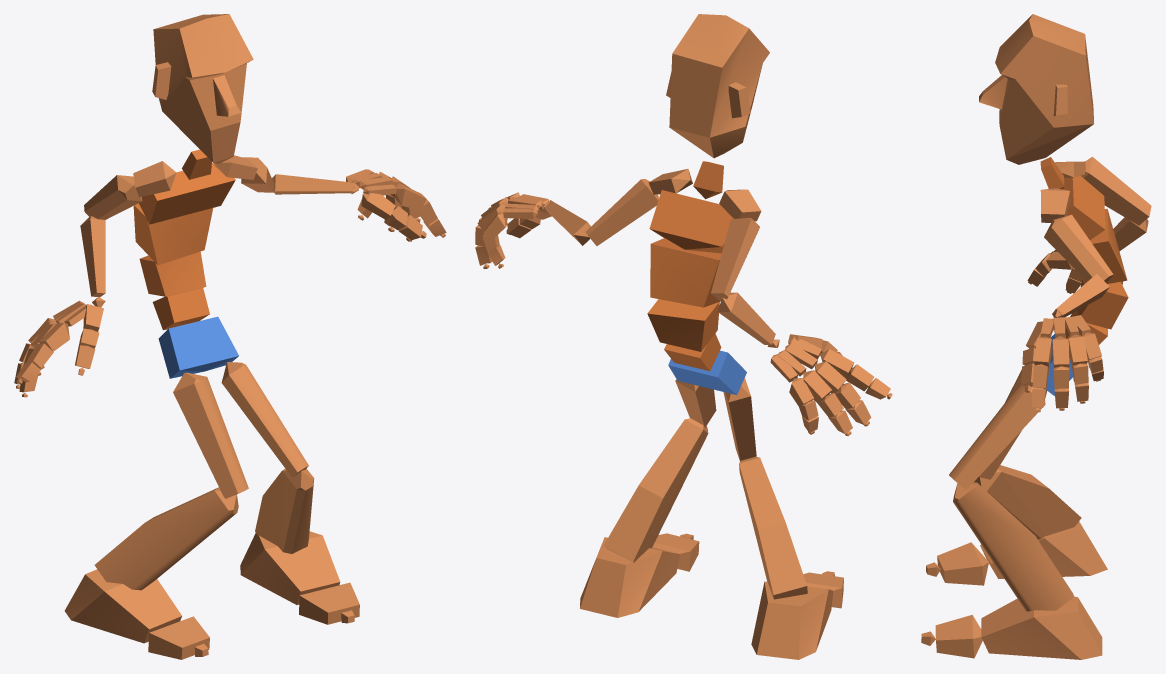
The model's file is prueba134.obj.
3 renders of one model, left to right at view 1: azimuth 30°, elevation 25°; view 2: azimuth 150°, elevation 25°; view 3: azimuth 270°, elevation 25°, orthographic.
Visible parts, largest first — view 1: BOPED_Head, BOPED_R_leg, BOPED_R_foot, BOPED_R_foot01, BOPED_R_legup, BOPED_L_leg, Bone01, BOPED_L_legup, Bone04, Bone05, Bone03, BOPED_R_foot_toe04 (+9 smaller); view 2: BOPED_Head, BOPED_L_leg, BOPED_R_foot01, BOPED_R_leg, BOPED_R_foot, Bone04, Bone05, Bone03, BOPED_R_arm_upper, BOPED_L_arm_upper, Bone01, BOPED_R_legup (+9 smaller); view 3: BOPED_Head, BOPED_L_leg, BOPED_R_foot01, BOPED_R_leg, BOPED_L_legup, BOPED_R_foot, BOPED_L_arm_upper, BOPED_R_arm_upper, Bone05, BOPED_R_foot_toe01, BOPED_R_foot_toe04, Bone03 (+14 smaller).
Part boxes in pixels (left/top/right/bottom): BOPED_Head: left=152, top=14, right=253, bottom=163; BOPED_R_leg: left=94, top=487, right=238, bottom=590; BOPED_R_foot: left=64, top=569, right=181, bottom=643; BOPED_R_foot01: left=240, top=531, right=340, bottom=604; BOPED_R_legup: left=173, top=372, right=248, bottom=498; BOPED_L_leg: left=255, top=468, right=314, bottom=553; Bone01: left=158, top=316, right=238, bottom=378; BOPED_L_legup: left=221, top=362, right=308, bottom=477; Bone04: left=133, top=203, right=213, bottom=265; Bone05: left=139, top=163, right=235, bottom=224; Bone03: left=139, top=251, right=206, bottom=296; BOPED_R_foot_toe04: left=299, top=582, right=359, bottom=624; BOPED_Head: left=666, top=14, right=769, bottom=158; BOPED_L_leg: left=603, top=418, right=708, bottom=562; BOPED_R_foot01: left=580, top=537, right=679, bottom=617; BOPED_R_leg: left=739, top=456, right=807, bottom=599; BOPED_R_foot: left=751, top=581, right=833, bottom=659; Bone04: left=650, top=238, right=721, bottom=307; Bone05: left=649, top=190, right=733, bottom=253; Bone03: left=647, top=299, right=719, bottom=351; BOPED_R_arm_upper: left=711, top=218, right=759, bottom=301; BOPED_L_arm_upper: left=585, top=179, right=658, bottom=245; Bone01: left=668, top=350, right=746, bottom=394; BOPED_R_legup: left=723, top=378, right=756, bottom=461; BOPED_Head: left=979, top=14, right=1093, bottom=164; BOPED_L_leg: left=953, top=482, right=1074, bottom=611; BOPED_R_foot01: left=981, top=596, right=1102, bottom=659; BOPED_R_leg: left=974, top=465, right=1081, bottom=539; BOPED_L_legup: left=949, top=382, right=1045, bottom=489; BOPED_R_foot: left=980, top=521, right=1107, bottom=578; BOPED_L_arm_upper: left=1044, top=214, right=1113, bottom=283; BOPED_R_arm_upper: left=1081, top=156, right=1151, bottom=225; Bone05: left=1063, top=176, right=1105, bottom=239; BOPED_R_foot_toe01: left=937, top=542, right=988, bottom=585; BOPED_R_foot_toe04: left=935, top=614, right=982, bottom=658; Bone03: left=1077, top=279, right=1128, bottom=329.
Bounding box in the file's own units: 130 × 175 × 62.75.
